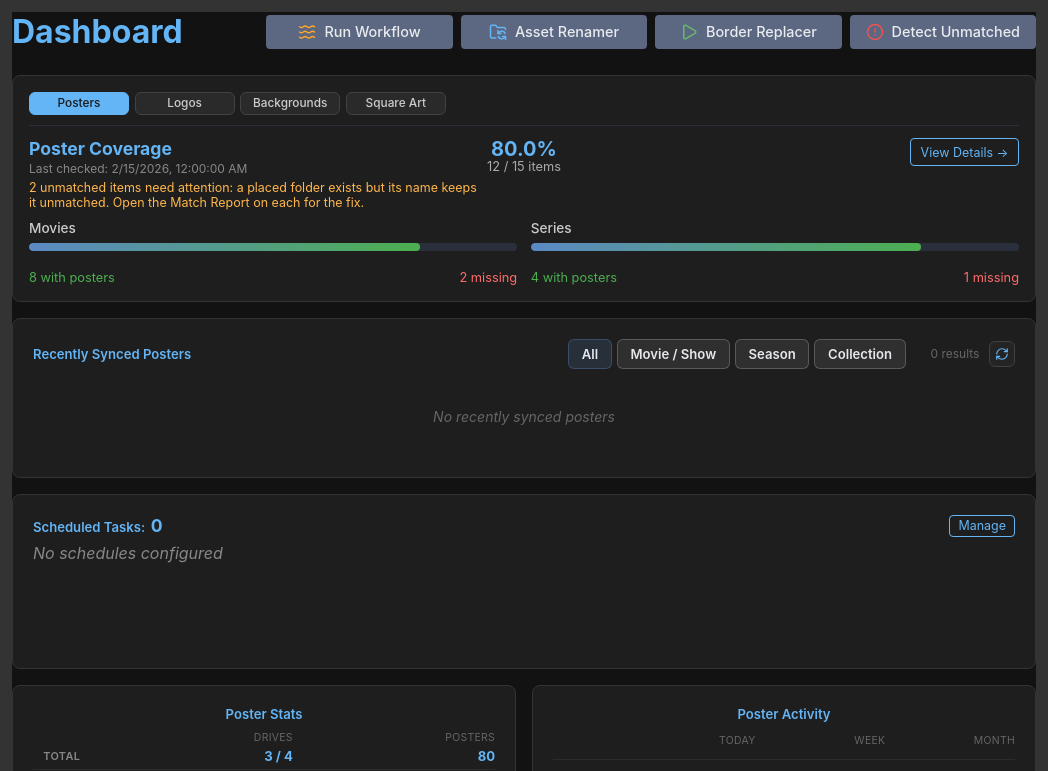
Dashboard › switches the recently synced carousel to the clicked coverage scope
Expected: the heading "Recently Synced Posters" is shown, [33,346,191,362]
Click the tab "Logos".
click(185, 104)  # box [135,92,235,115]
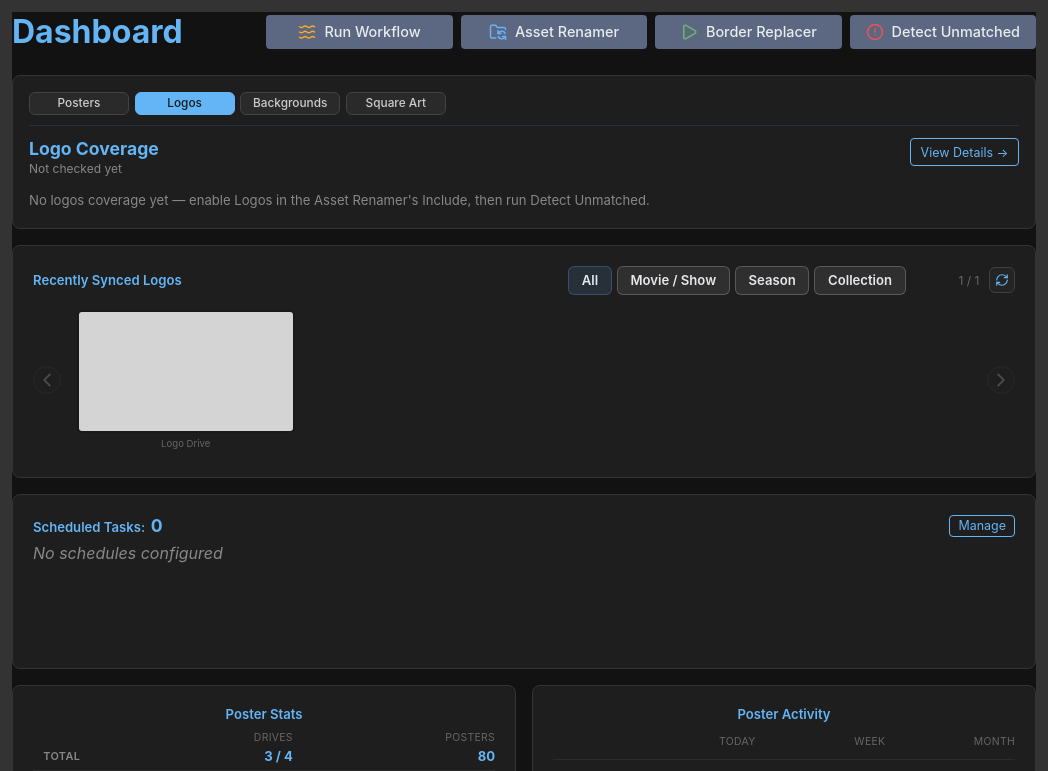
Expected: the heading "Recently Synced Logos" is shown, [33,272,182,288]
Click the tab "Posters".
click(79, 104)  # box [29,92,129,115]
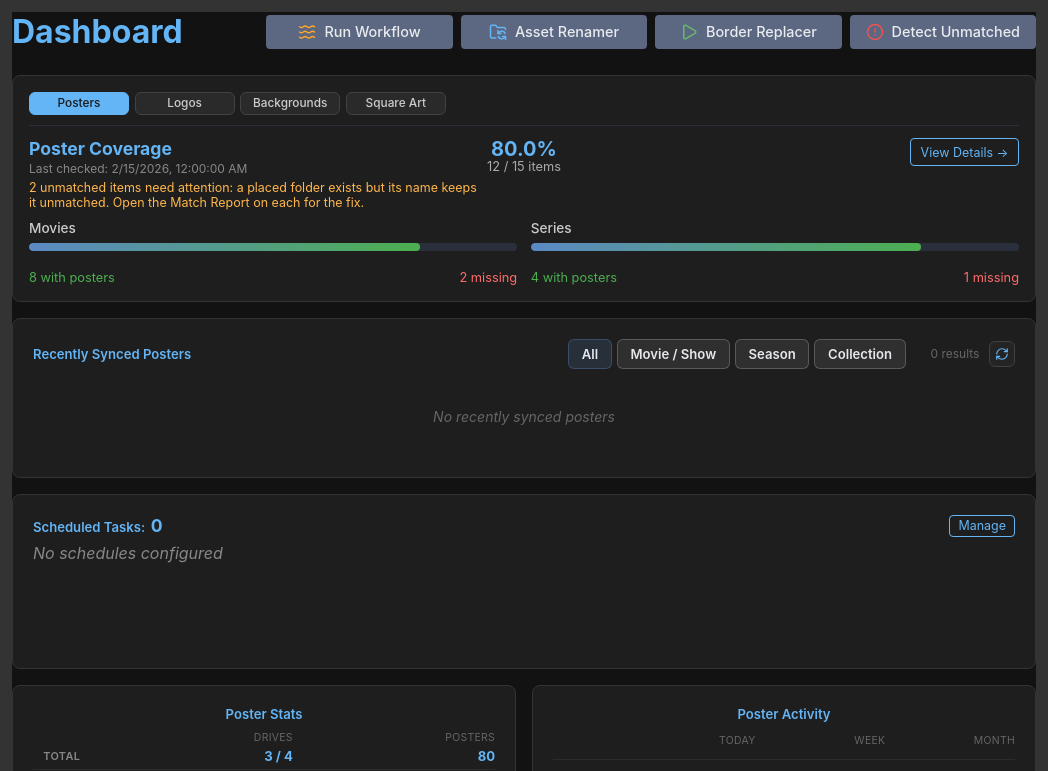
Expected: the text "No recently synced posters" is shown, [433,408,615,425]
